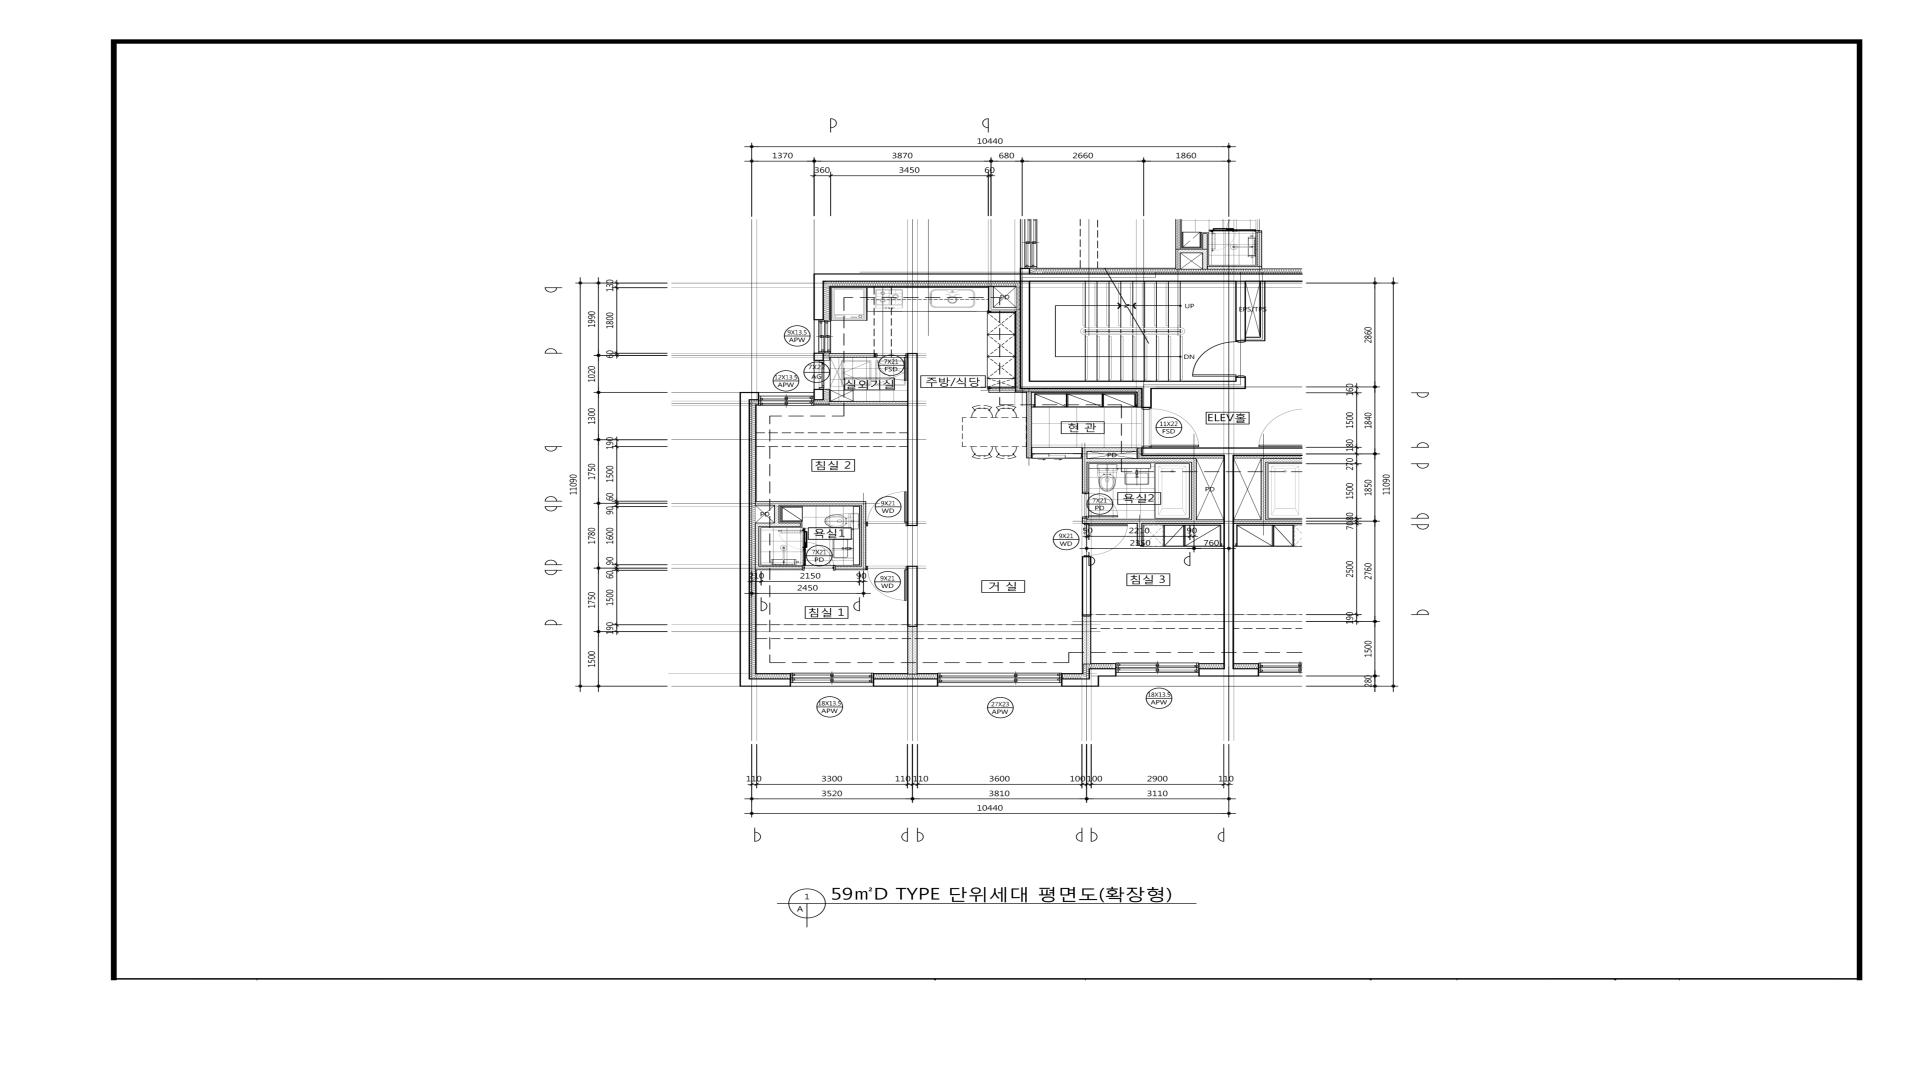door: (1145, 407, 1201, 447), (1192, 342, 1246, 377), (866, 566, 907, 601), (1084, 524, 1127, 556), (866, 492, 907, 526), (1081, 492, 1118, 518), (802, 542, 835, 571), (876, 353, 907, 381), (1033, 454, 1083, 459)
wall: (740, 400, 750, 679), (1019, 273, 1303, 282), (1224, 456, 1234, 676), (907, 353, 918, 526), (824, 273, 1019, 282), (1030, 381, 1236, 389), (1142, 447, 1303, 456), (1019, 282, 1031, 389), (1083, 518, 1224, 524), (907, 566, 918, 626), (1081, 556, 1092, 616), (1236, 282, 1246, 342), (873, 678, 939, 687), (907, 626, 918, 675), (1081, 616, 1092, 665), (814, 273, 824, 320), (740, 678, 791, 687), (1026, 392, 1033, 459), (756, 501, 866, 505), (860, 505, 866, 571), (1088, 459, 1196, 463), (829, 401, 907, 406), (1062, 676, 1100, 687), (1259, 282, 1266, 342), (1191, 463, 1197, 520), (1083, 447, 1088, 492), (758, 522, 800, 527), (1089, 669, 1116, 676), (1088, 447, 1138, 451), (1199, 669, 1224, 676), (754, 566, 802, 570), (829, 353, 876, 357), (754, 522, 758, 566), (1142, 389, 1151, 407), (988, 286, 994, 311), (740, 392, 760, 400), (1236, 377, 1246, 389), (1137, 524, 1142, 546), (814, 389, 824, 400), (989, 389, 1015, 393), (835, 566, 860, 570), (814, 352, 824, 361), (774, 505, 779, 522), (994, 307, 1017, 311), (1246, 336, 1259, 342)
window: (938, 673, 1062, 687), (790, 673, 873, 687), (1116, 662, 1199, 676), (760, 392, 814, 406), (814, 320, 831, 353), (814, 360, 831, 389)
